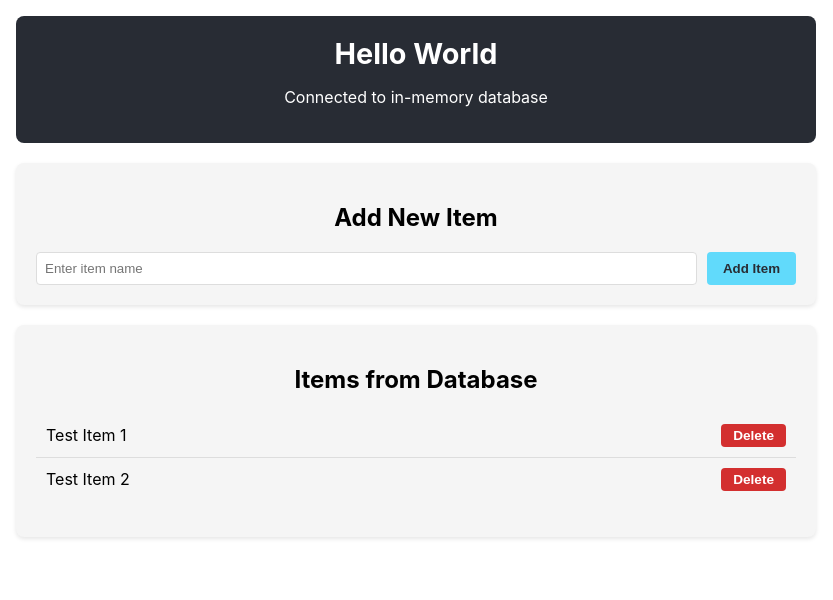
Test: App Component › adds a new item
The width and height of the screenshot is (833, 600).
# Fill in the form and submit
In the field with placeholder "Enter item name": (366, 268) [36,252,697,285], type "New Test Item"
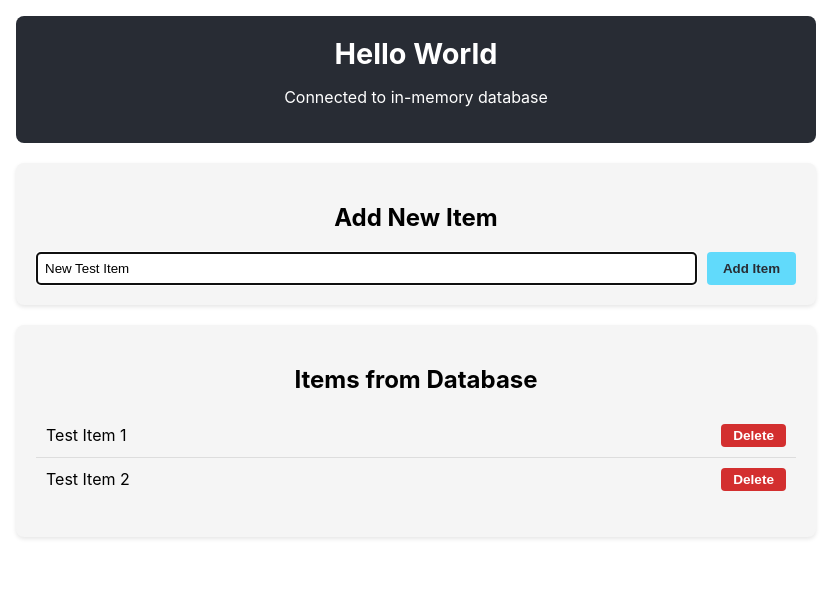
Click the button "Add Item": (752, 268) [707,252,796,285]
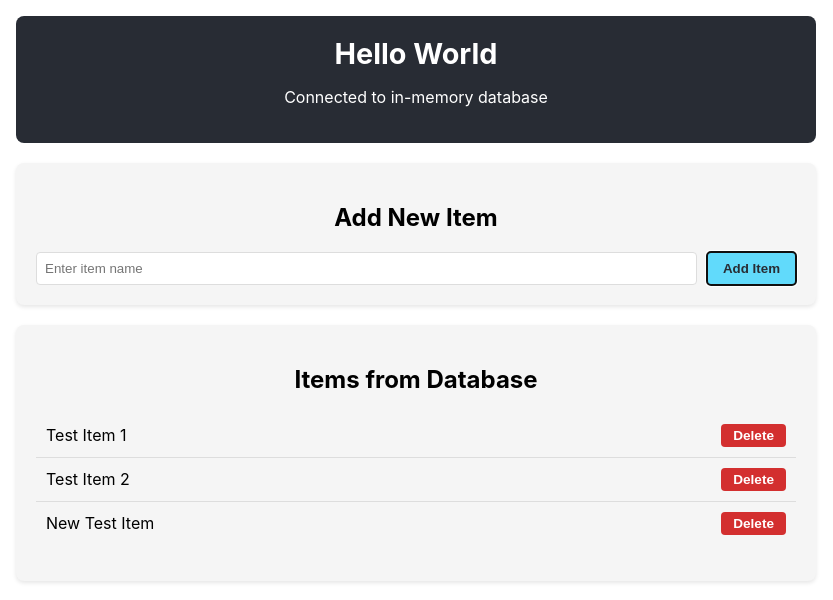
Expected: the text "New Test Item" is shown, [46,513,154,533]
